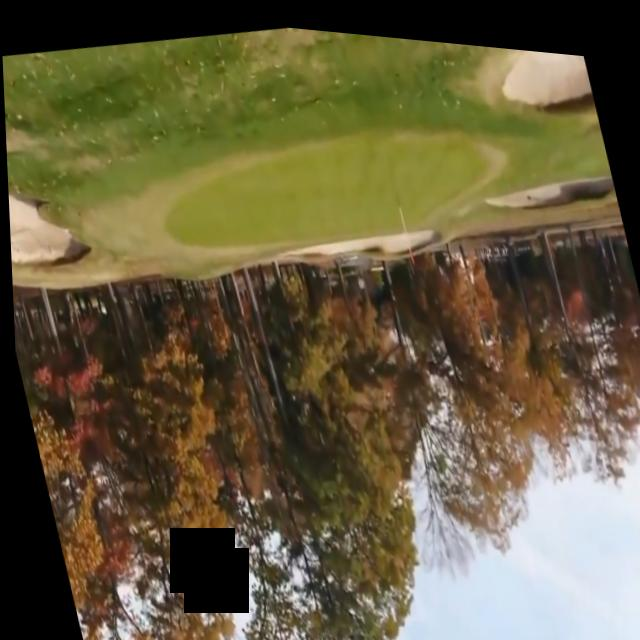Pole: (387, 182, 425, 267)
